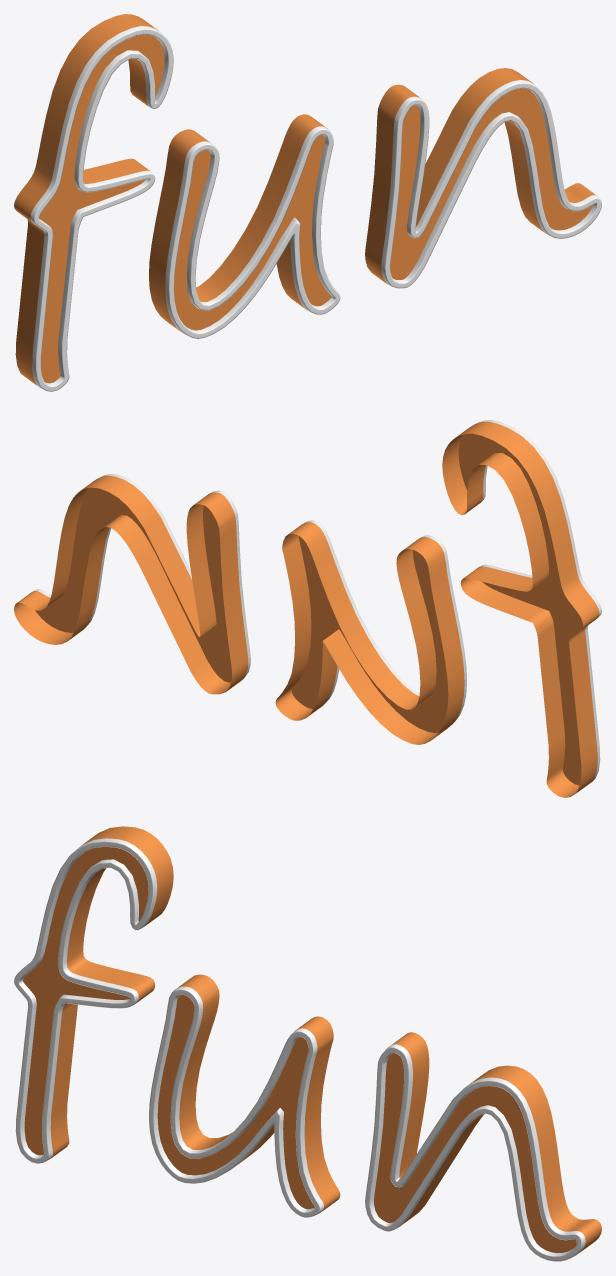
Rendered from Frame_4.glb.
The picture shows the model from 3 angles, top to bottom: view 1: azimuth 30°, elevation 25°; view 2: azimuth 150°, elevation 25°; view 3: azimuth 330°, elevation 25°; orthographic projection.
Visible parts, largest first — view 1: Neon_Sign_Fun_1; view 2: Neon_Sign_Fun_1; view 3: Neon_Sign_Fun_1.
Boxes of the visible parts, x1=… form: Neon_Sign_Fun_1: x1=14, y1=14, x2=601, y2=391; Neon_Sign_Fun_1: x1=14, y1=420, x2=601, y2=797; Neon_Sign_Fun_1: x1=14, y1=826, x2=601, y2=1261.
Bounding box in the file's own units: 1.66 × 0.9516 × 0.0981.
2 materials, 1 textured.
